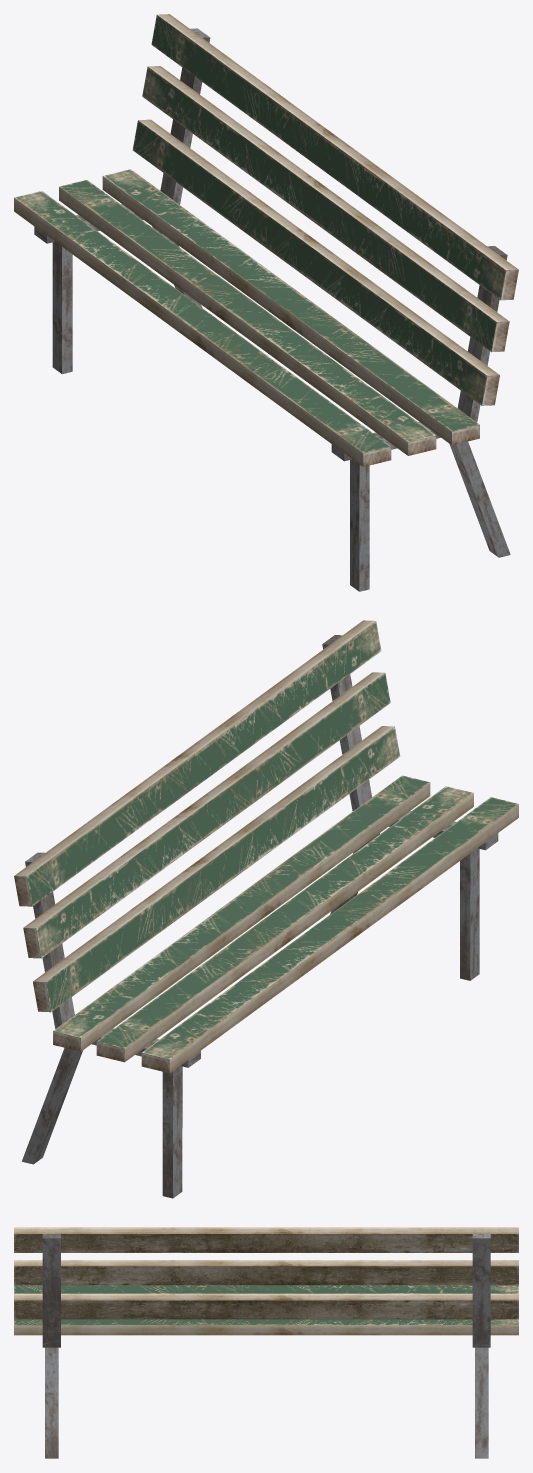
File: bench_wood.FBX
3 renders of one model, top to bottom at view 1: azimuth 30°, elevation 25°; view 2: azimuth 150°, elevation 25°; view 3: azimuth 270°, elevation 25°, orthographic. The views are drawn at different scales.
Visible parts, largest first — view 1: bench_wood; view 2: bench_wood; view 3: bench_wood.
Part boxes in pixels (bbox=[...]): bench_wood: bbox=[14, 14, 518, 591]; bench_wood: bbox=[14, 620, 518, 1198]; bench_wood: bbox=[14, 1227, 518, 1458].
Size of what is drawn, in the model's own units: 52.06 by 90.27 by 186.
